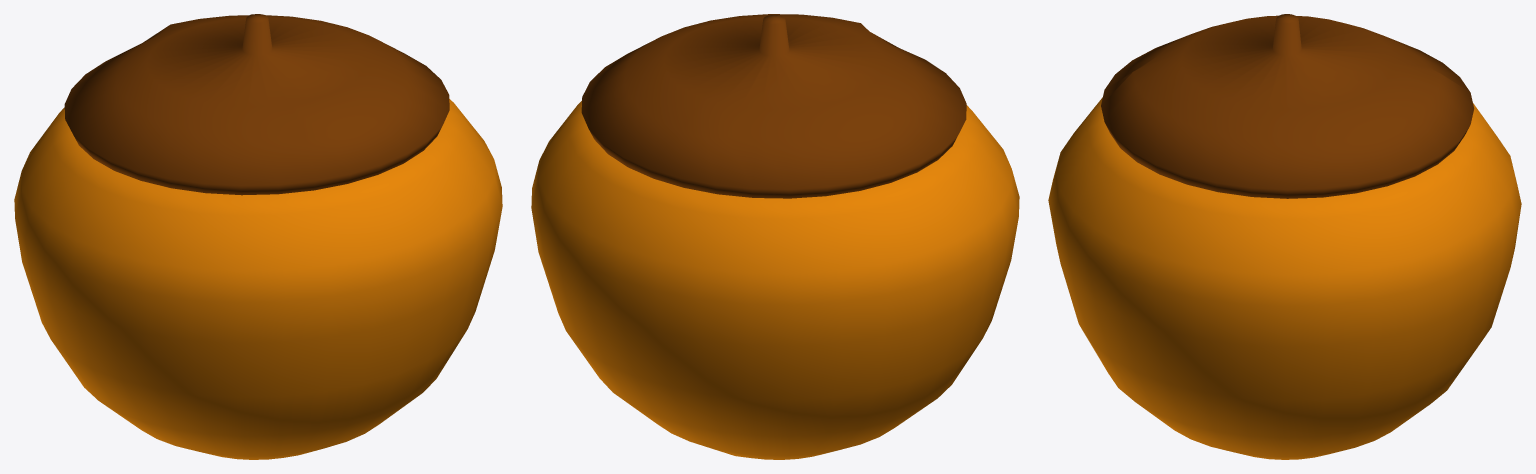
File: tori_item.gltf
3 views of the same model, side by side, from view 1: azimuth 30°, elevation 25°; view 2: azimuth 150°, elevation 25°; view 3: azimuth 270°, elevation 25° (orthographic).
Parts seen in each view (by area): view 1: Sphere.001; view 2: Sphere.001; view 3: Sphere.001.
Part boxes in pixels (<box>): Sphere.001: <box>14,14,502,459</box>; Sphere.001: <box>531,14,1019,459</box>; Sphere.001: <box>1048,14,1521,459</box>.
Size of the model in its own units: 2.1 by 2.05 by 2.01.
